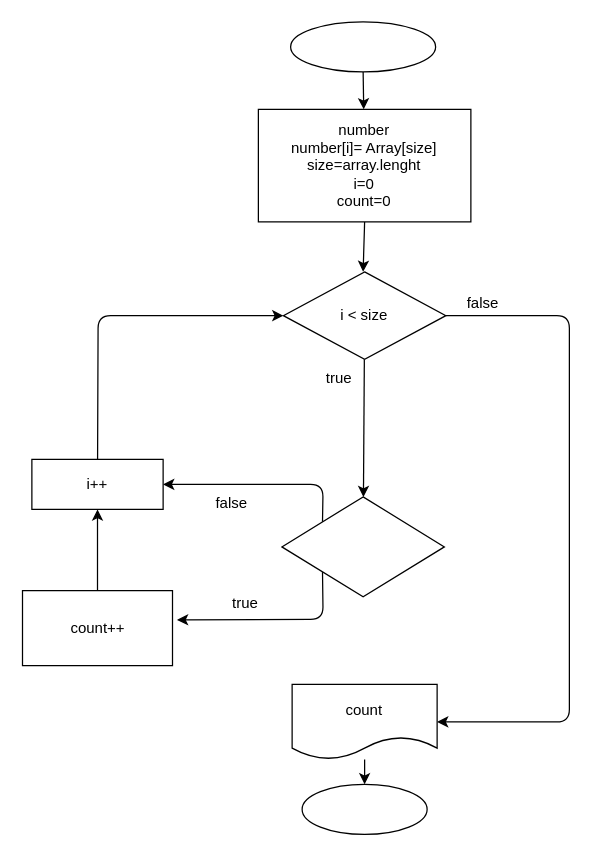
This 601x856 diagram has some shape labels left out. The box of each missing label's shape, as (x1, y1, x2, y2) in pixels:
end: (301, 783, 427, 834)
number[i]>0: (281, 496, 444, 597)
start: (289, 21, 436, 72)
